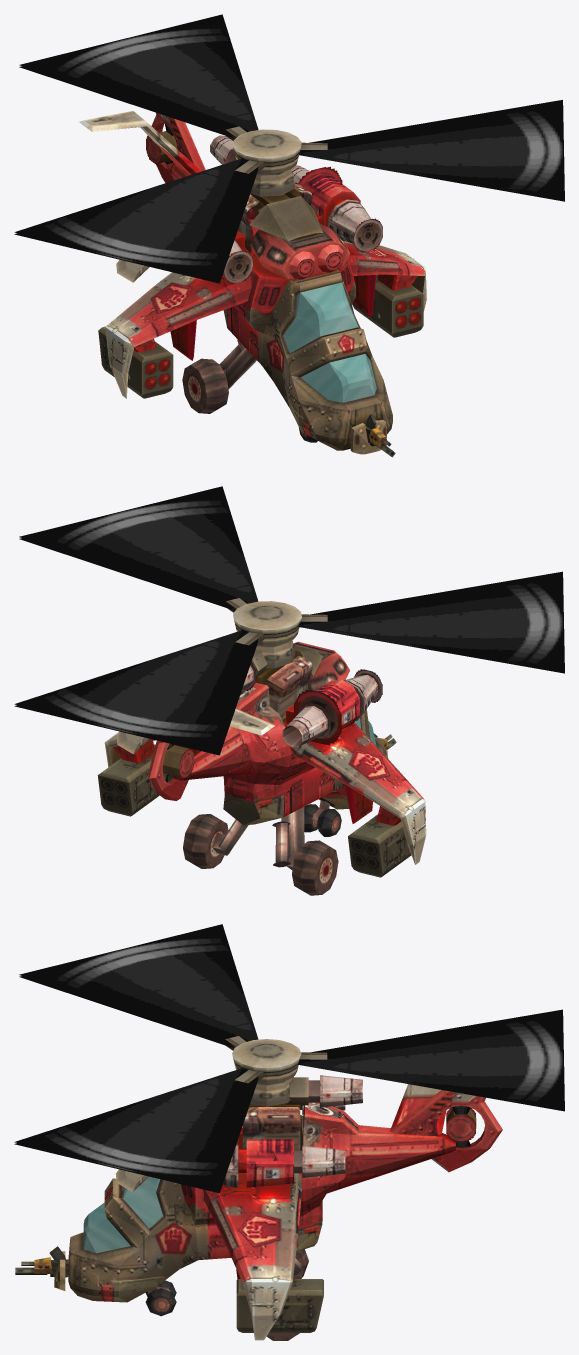
The model's file is VTGSHPH.bgf.obj.
3 renders of one model, top to bottom at view 1: azimuth 30°, elevation 25°; view 2: azimuth 150°, elevation 25°; view 3: azimuth 270°, elevation 25°, orthographic.
Visible parts, largest first — view 1: MAIN_ROTOR_FAST, VTGSHP, ROTOR, RWHEEL, ROCKETPOD, ROCKETPOD01, MAIN_ROTOR_SLOW, TURRET01, BARREL01; view 2: MAIN_ROTOR_FAST, VTGSHP, RWHEEL, ROTOR, ROCKETPOD01, ROCKETPOD, LWHEEL, MAIN_ROTOR_SLOW, FRONTWHEEL, ROTOR01; view 3: MAIN_ROTOR_FAST, VTGSHP, ROTOR, ROCKETPOD, MAIN_ROTOR_SLOW, ROTOR01, BARREL01, FRONTWHEEL.
Boxes of the visible parts, <box> form: MAIN_ROTOR_FAST: <box>14,14,564,283</box>; VTGSHP: <box>79,111,426,450</box>; ROTOR: <box>232,129,301,196</box>; RWHEEL: <box>182,340,256,413</box>; ROCKETPOD: <box>352,274,423,337</box>; ROCKETPOD01: <box>98,326,173,398</box>; MAIN_ROTOR_SLOW: <box>116,126,327,282</box>; TURRET01: <box>350,420,386,454</box>; BARREL01: <box>365,414,395,457</box>; MAIN_ROTOR_FAST: <box>14,486,564,755</box>; VTGSHP: <box>104,641,426,864</box>; RWHEEL: <box>272,807,338,895</box>; ROTOR: <box>233,601,301,668</box>; ROCKETPOD01: <box>348,814,411,877</box>; ROCKETPOD: <box>97,744,166,816</box>; LWHEEL: <box>183,814,248,868</box>; MAIN_ROTOR_SLOW: <box>116,598,327,754</box>; FRONTWHEEL: <box>304,800,341,836</box>; ROTOR01: <box>162,745,194,779</box>; MAIN_ROTOR_FAST: <box>14,924,564,1193</box>; VTGSHP: <box>68,1075,502,1340</box>; ROTOR: <box>232,1039,301,1106</box>; ROCKETPOD: <box>236,1279,323,1332</box>; MAIN_ROTOR_SLOW: <box>116,1036,327,1192</box>; ROTOR01: <box>446,1107,476,1141</box>; BARREL01: <box>15,1246,68,1277</box>; FRONTWHEEL: <box>145,1280,176,1316</box>.
Size of the model in its own units: 12 by 5.53 by 10.46.
20 materials, 20 textured.
